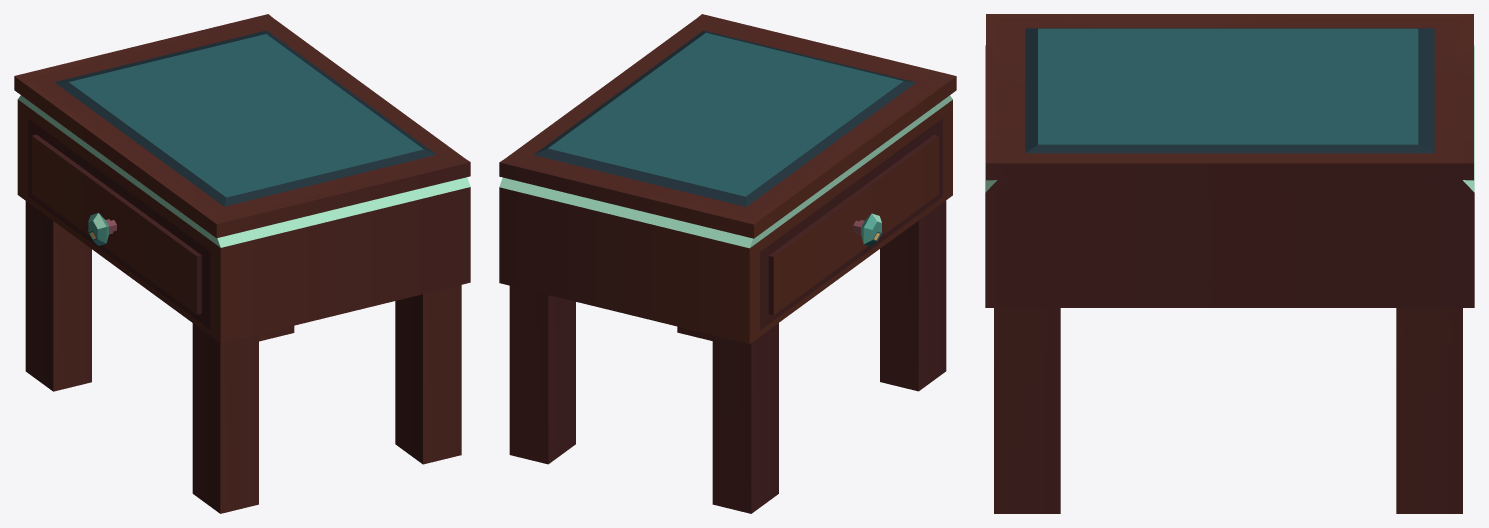
The model's file is Furniture_Desk02.fbx.
The picture shows the model from 3 angles, left to right: view 1: azimuth 30°, elevation 25°; view 2: azimuth 150°, elevation 25°; view 3: azimuth 270°, elevation 25°; orthographic projection. The views are drawn at different scales.
Parts seen in each view (by area): view 1: Cube.353; view 2: Cube.353; view 3: Cube.353.
Part boxes in pixels (x1,y1,x2,y2): Cube.353: (14,14,470,513); Cube.353: (499,14,956,513); Cube.353: (985,14,1474,513).
Size of the model in its own units: 34.05 by 34.98 by 43.33.
